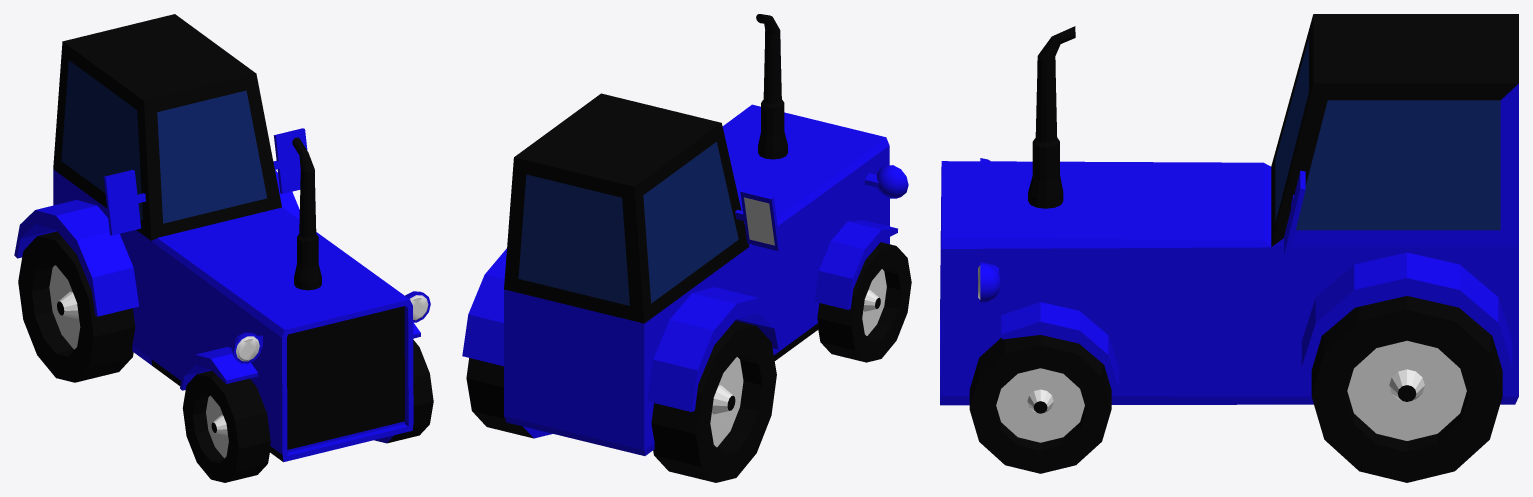
The model's file is traktor_1.fbx.
3 renders of one model, left to right at view 1: azimuth 30°, elevation 25°; view 2: azimuth 150°, elevation 25°; view 3: azimuth 270°, elevation 25°, orthographic. The views are drawn at different scales.
Visible parts, largest first — view 1: Object_8.002; view 2: Object_8.002; view 3: Object_8.002.
Boxes of the visible parts, x1,y1,x2,y2 form: Object_8.002: (14,14,433,482); Object_8.002: (462,14,911,482); Object_8.002: (940,14,1518,482).
Size of the model in its own units: 21.88 by 30.29 by 40.59.
